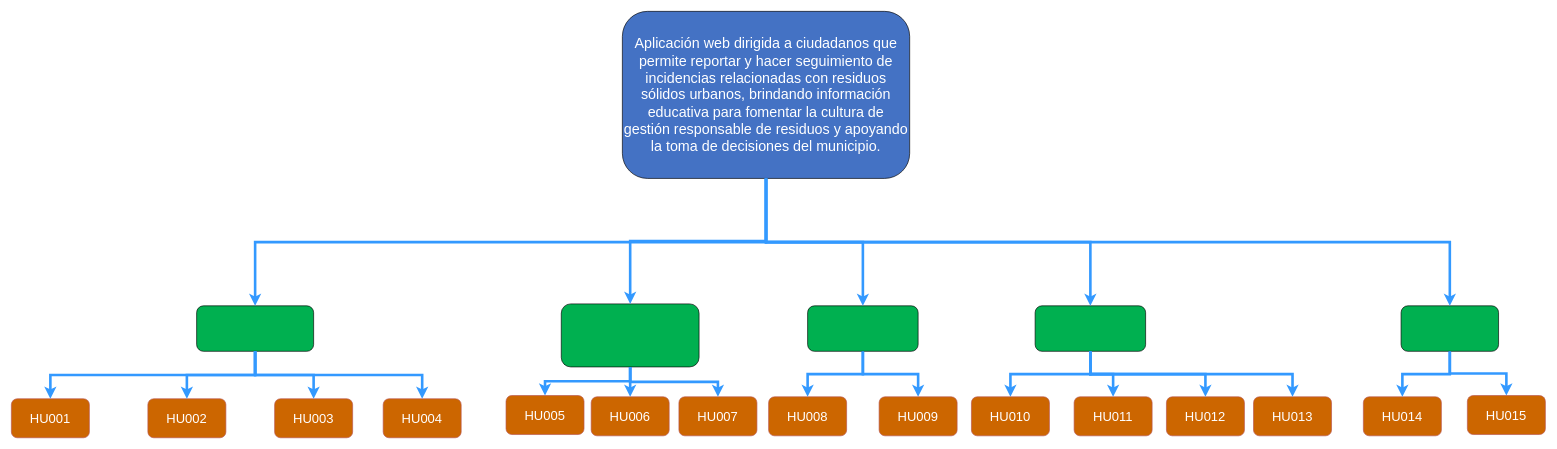
Image size: 1557x449. Some labels were removed from this diagram. The shapes that lost their labels are listed below. From the top down, each one's box as (x1, y1, x2, y2) in pixels, then its label:
(196, 305, 314, 351): Épica 1: Módulo de autenticación
(561, 303, 699, 367): Épica 2: Módulo de seguimiento de incidencias reportadas
(807, 305, 918, 351): Épica 3: Módulo de educación ambiental
(1034, 305, 1146, 351): Épica 4: Módulo de recompensas al ciudadano
(1400, 305, 1499, 351): Épica 5: Módulo de registro de incidencias
